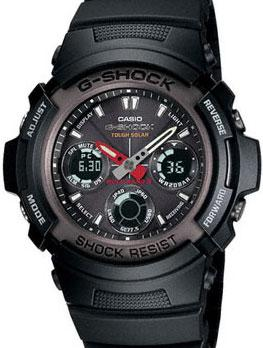watch: (12, 51, 243, 281)
